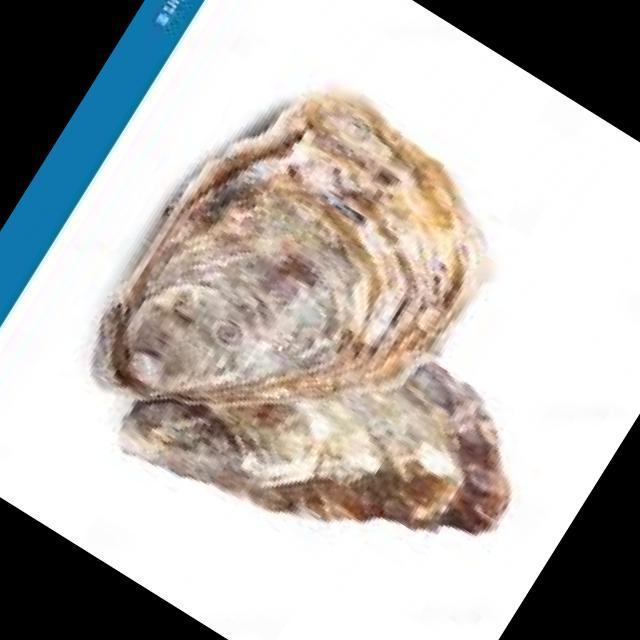Oyster- Indeterminate: (99, 92, 482, 402), (120, 361, 510, 534)
